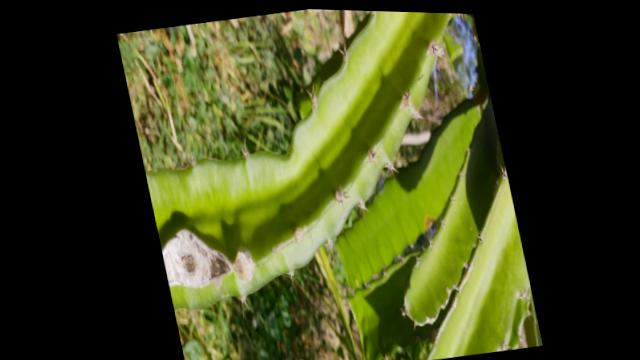stemcanker: (422, 38, 448, 65), (329, 186, 353, 206), (396, 89, 415, 109)
